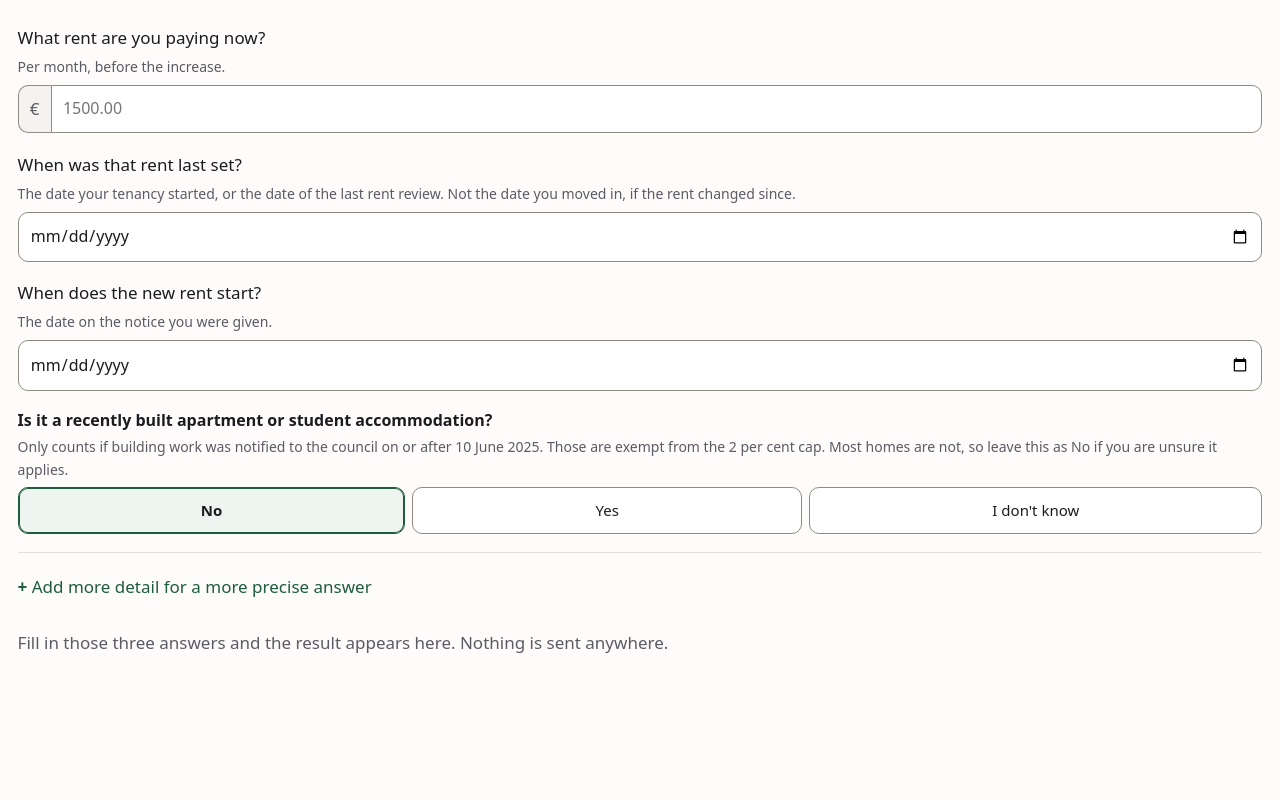
the rent check, end to end through the form › produces 2,050.00 for the worked example
Type "2000" into the field labelled "What rent are you paying now?".
click(657, 109); type("2000")  # box [51,85,1262,133]
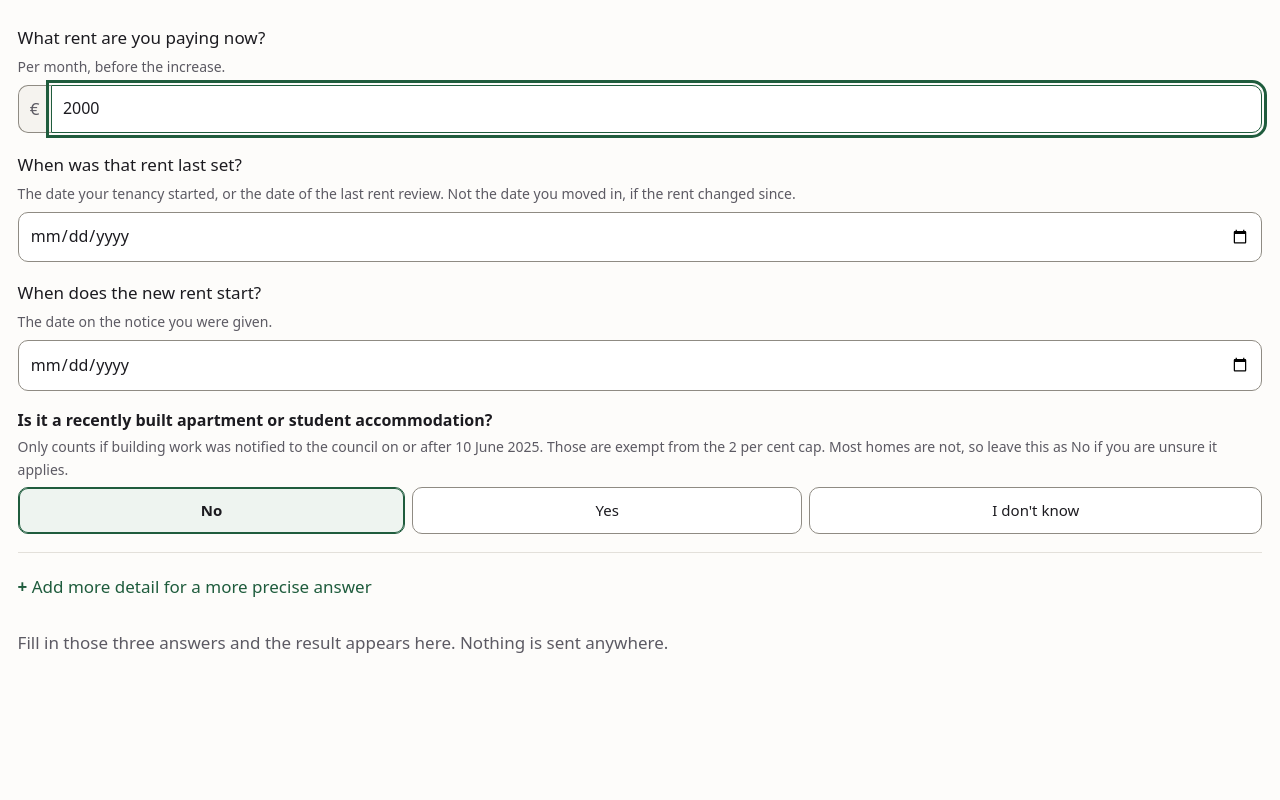
Type "2025-06-01" into the date field labelled "When was that rent last set?".
click(640, 237); type("2025-06-01")  # box [18,212,1262,262]
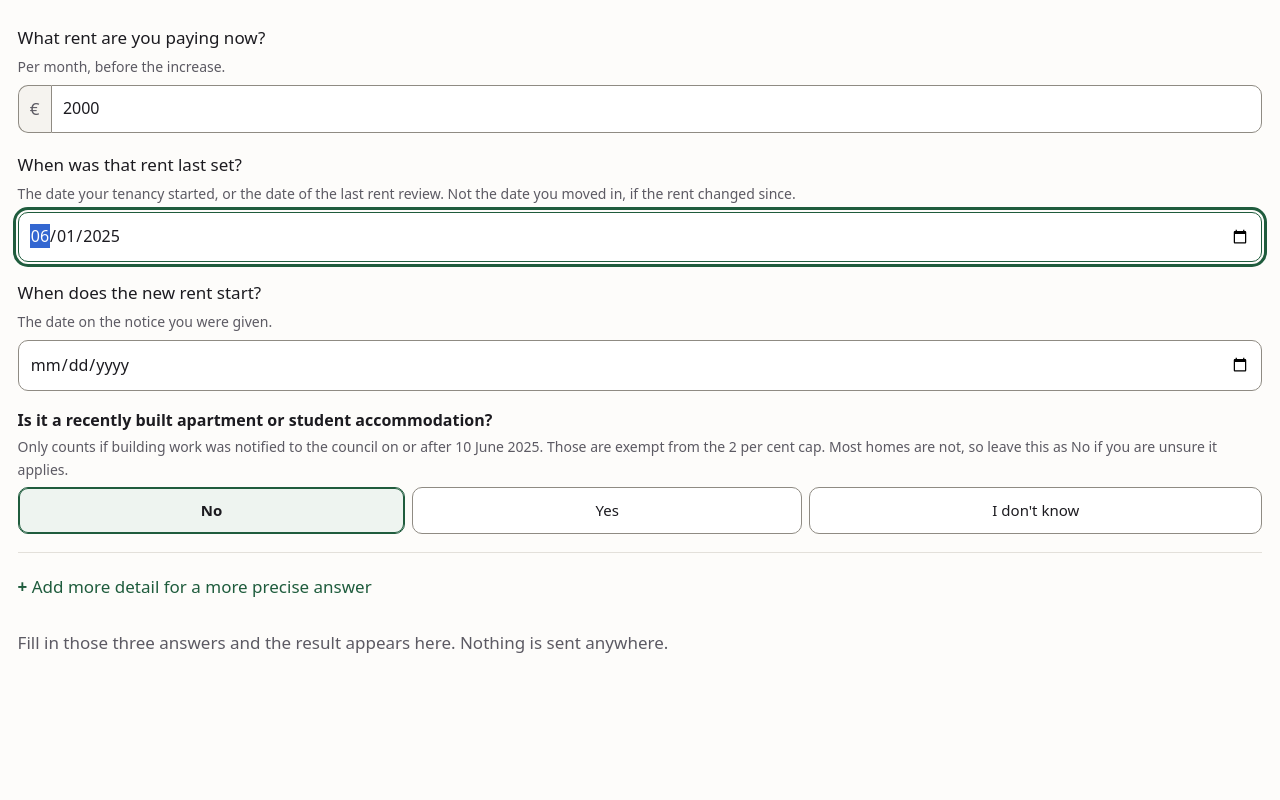
Type "2026-09-01" into the date field labelled "When does the new rent start?".
click(640, 365); type("2026-09-01")  # box [18,340,1262,391]
(page scrolled)
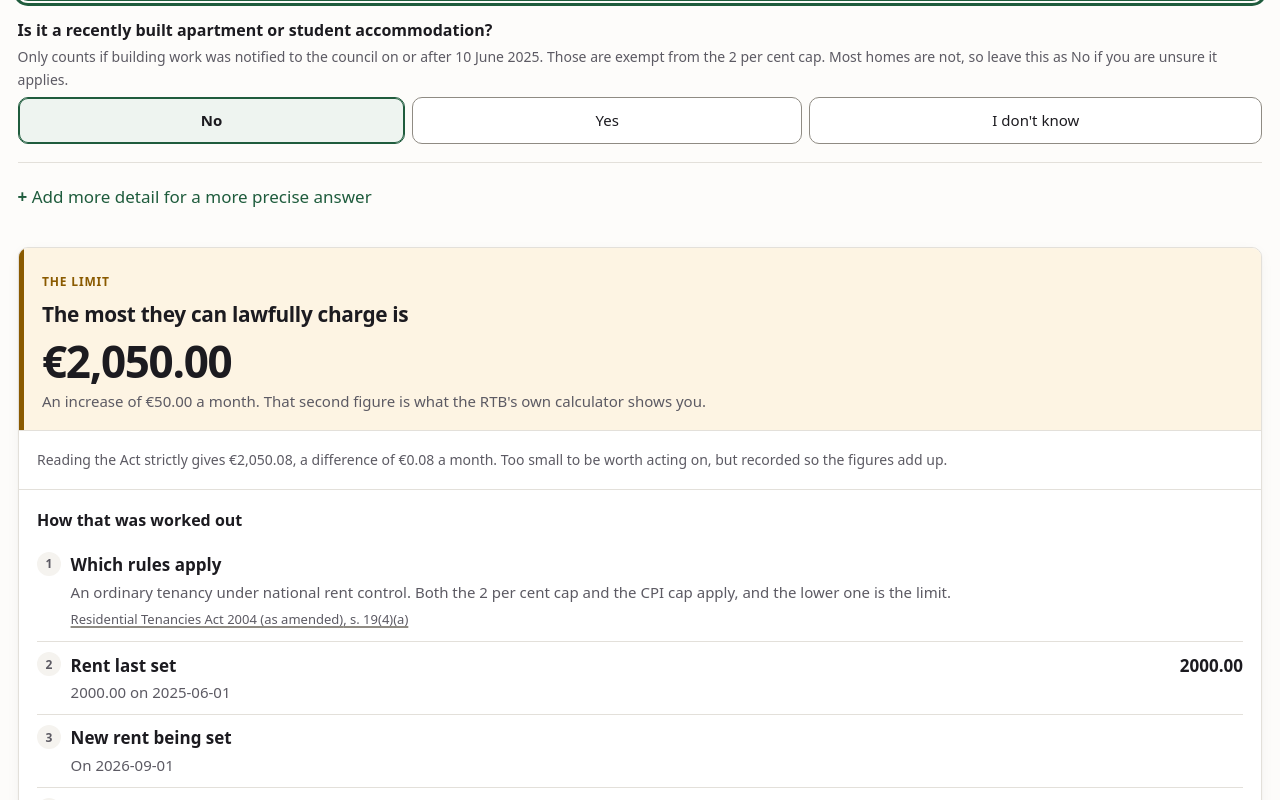
Now the text "The limit" is shown, box [42,272,110,291]
Now the text with class "figure" reads "€2,050.00", box [42,331,231,391]
Now the text "€2,050.00" is shown 2 times
